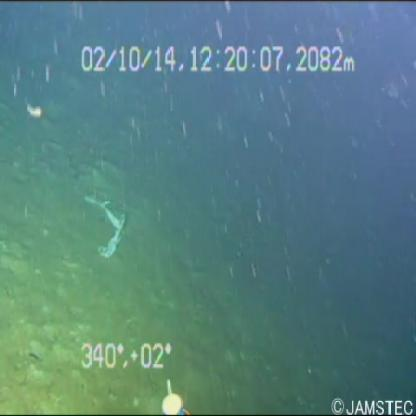Rov: (152, 375, 196, 416)
Rác: (75, 179, 136, 265)
